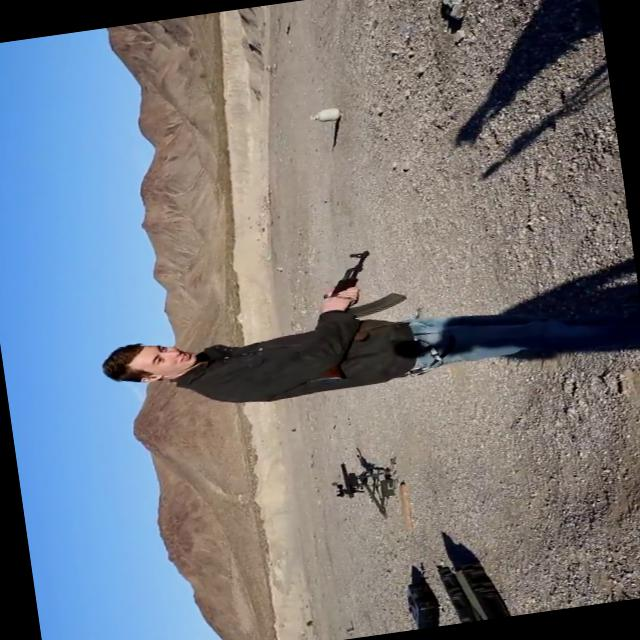long weapon: (286, 238, 412, 389), (314, 449, 384, 508)
